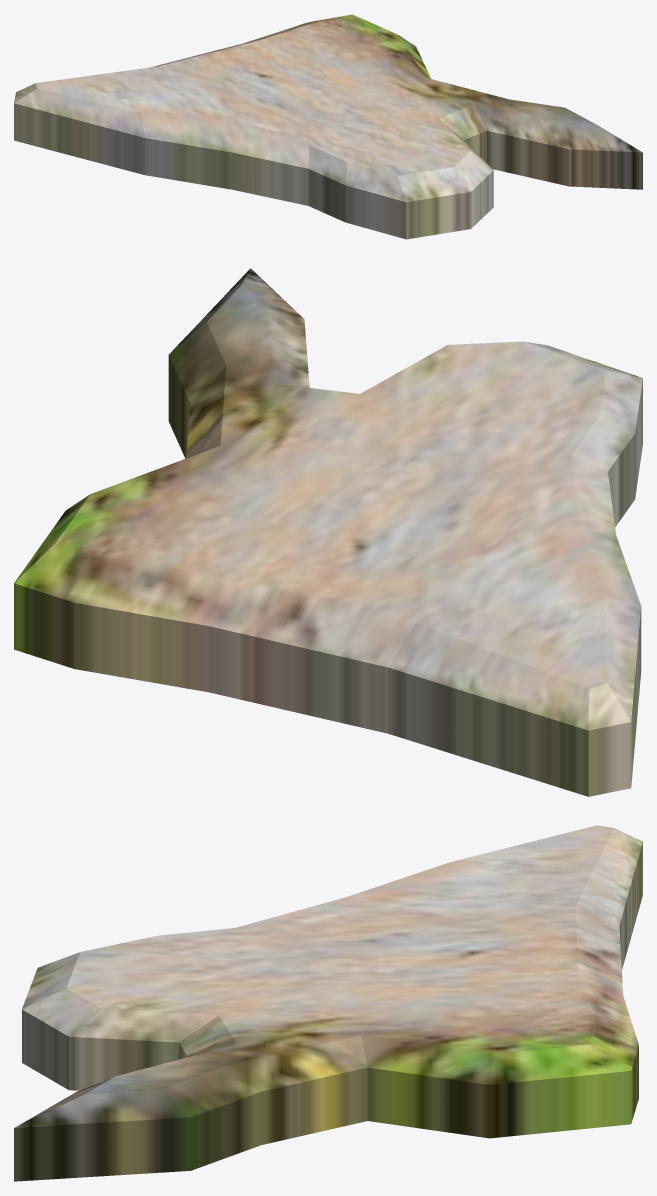
The model's file is stone.07.fbx.
3 renders of one model, top to bottom at view 1: azimuth 30°, elevation 25°; view 2: azimuth 150°, elevation 25°; view 3: azimuth 270°, elevation 25°, orthographic. The views are drawn at different scales.
Parts seen in each view (by area): view 1: stone.07; view 2: stone.07; view 3: stone.07.
Boxes of the visible parts, x1=… form: stone.07: x1=14, y1=14, x2=642, y2=239; stone.07: x1=14, y1=268, x2=642, y2=796; stone.07: x1=14, y1=825, x2=642, y2=1181.
Bounding box in the file's own units: 84.05 × 9.74 × 75.55.
1 material, 1 textured.
